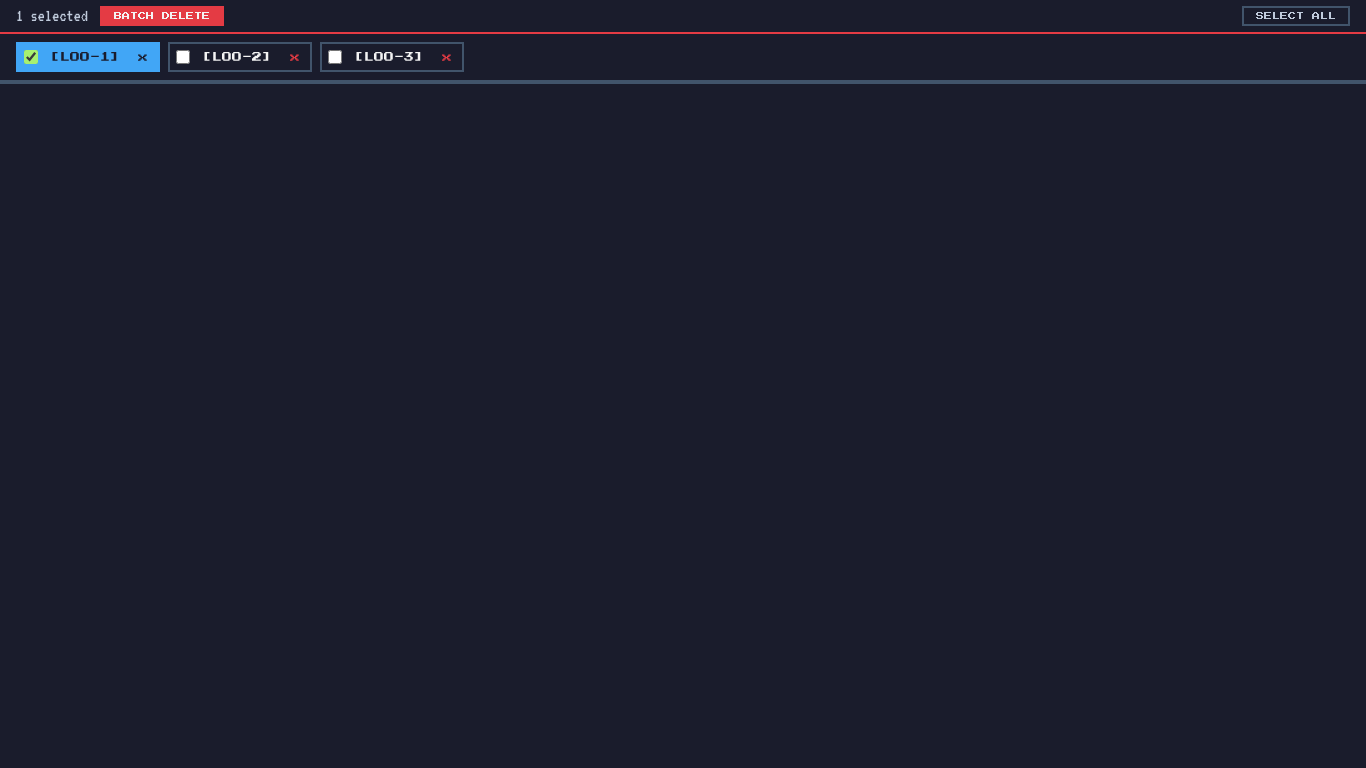
Test case: IssueTabs › closes batch dialog when cancel is clicked
Click the button with test id "batch-delete-btn". click: (162, 16)
box: x1=100 y1=6 x2=224 y2=26
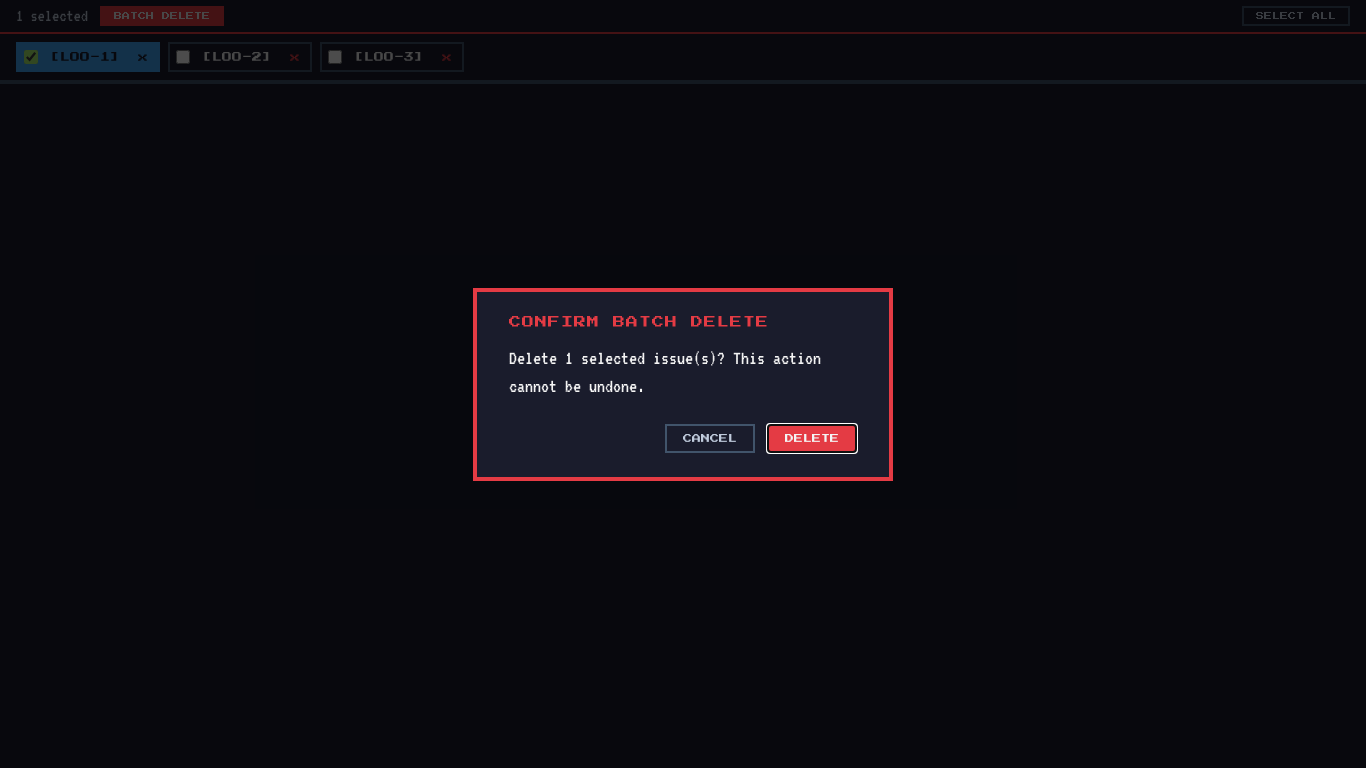
Now the text "CONFIRM BATCH DELETE" is shown, box x1=509 y1=316 x2=769 y2=328
Click the button "CANCEL". click: (710, 438)
box: x1=665 y1=424 x2=755 y2=452
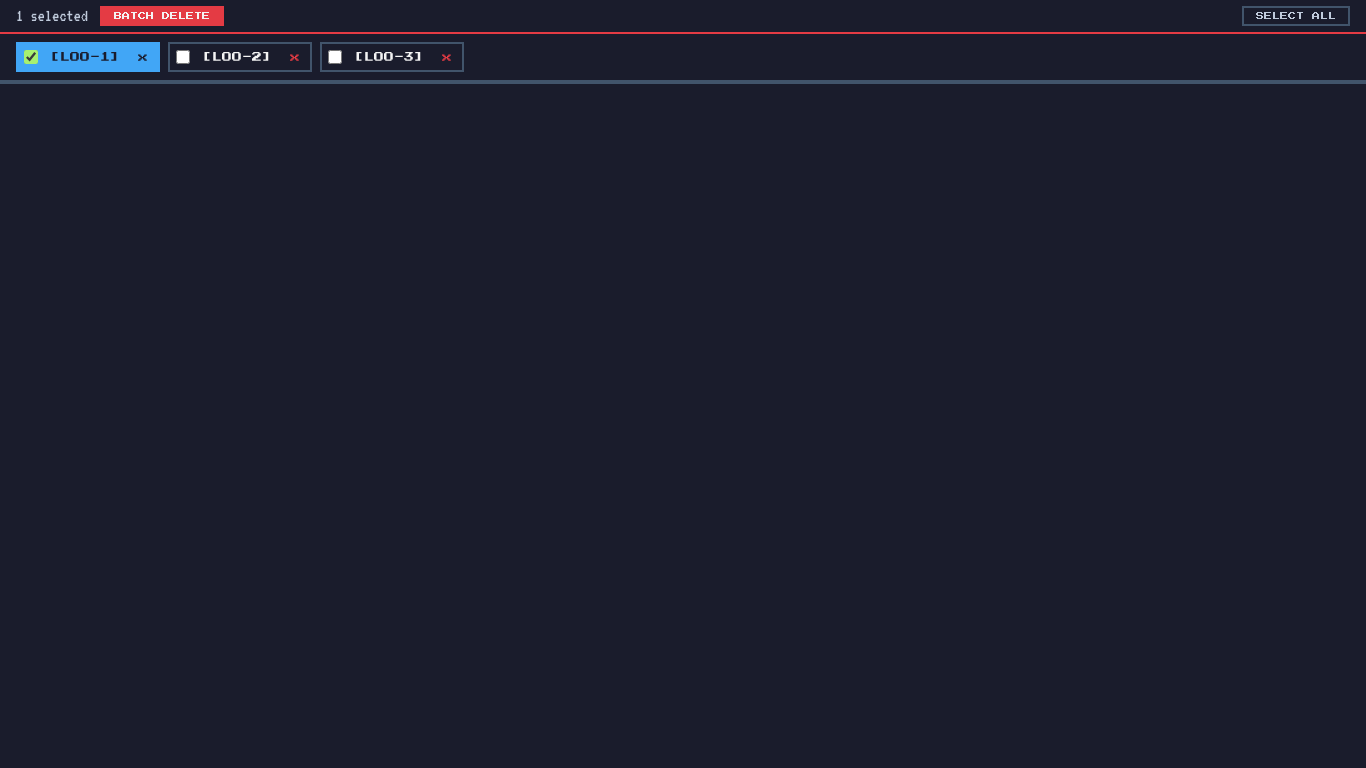
Now the text "CONFIRM BATCH DELETE" is gone
